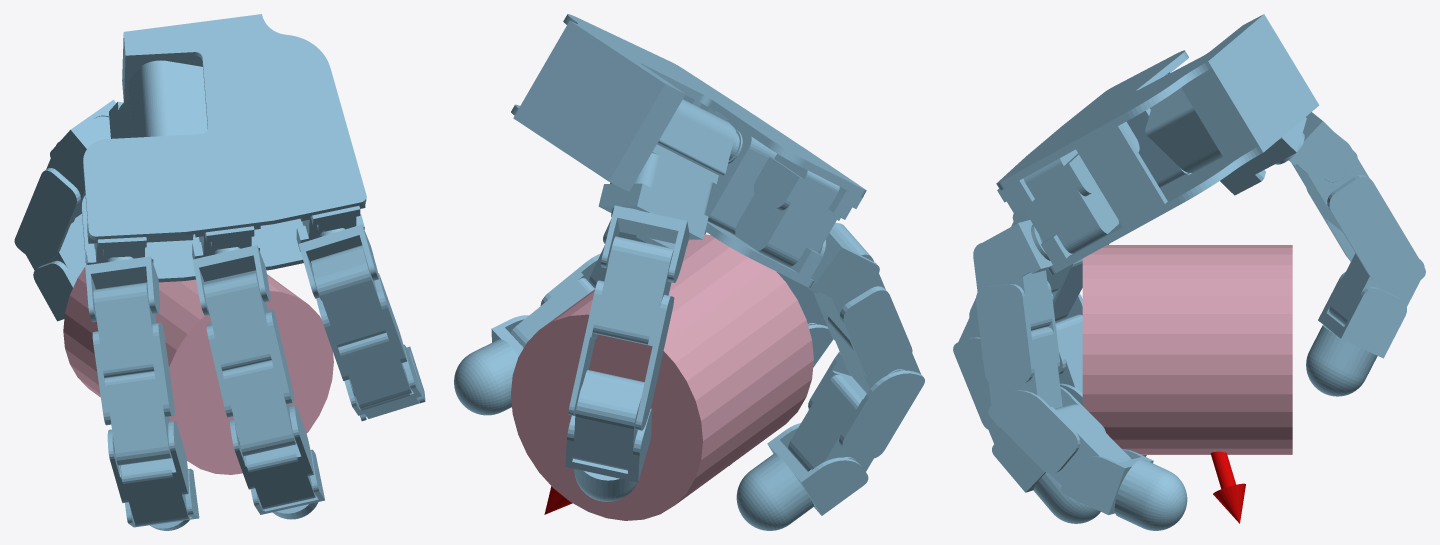
3 renders of one model, left to right at view 1: azimuth 30°, elevation 25°; view 2: azimuth 150°, elevation 25°; view 3: azimuth 270°, elevation 25°, orthographic. The views are drawn at different scales.
Visible parts, largest first — view 1: world, cylinder_medium.stl; view 2: world, cylinder_medium.stl; view 3: world, cylinder_medium.stl.
Boxes of the visible parts, x1=… form: world: x1=14, y1=14, x2=425, y2=530; cylinder_medium.stl: x1=63, y1=267, x2=333, y2=474; world: x1=454, y1=14, x2=924, y2=530; cylinder_medium.stl: x1=511, y1=234, x2=813, y2=520; world: x1=953, y1=14, x2=1425, y2=530; cylinder_medium.stl: x1=1082, y1=245, x2=1292, y2=454.
Size of the model in its own units: 0.1675 by 0.2006 by 0.18.
